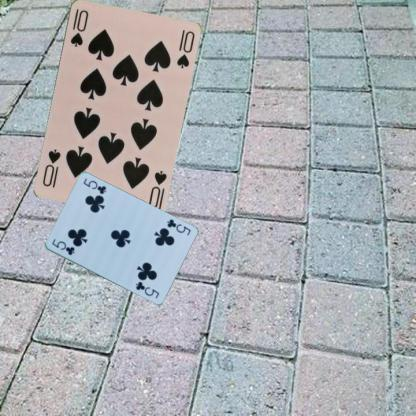10s: (68, 6, 90, 48), (146, 168, 168, 210)
5c: (164, 217, 192, 237), (49, 236, 76, 256)
